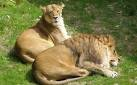lion: (34, 34, 120, 84), (14, 6, 67, 61)
